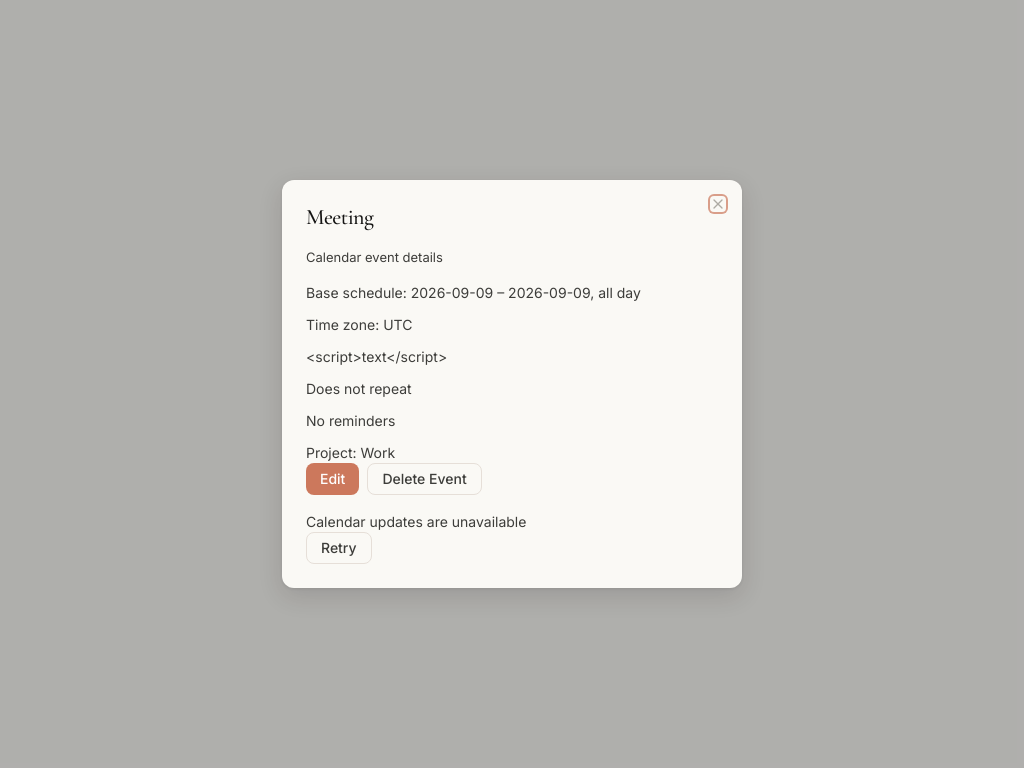
Test case: retries failed subscriptions during editing and releases all cleanup handles
Click the button "Edit": (333, 479) [306,463,359,495]
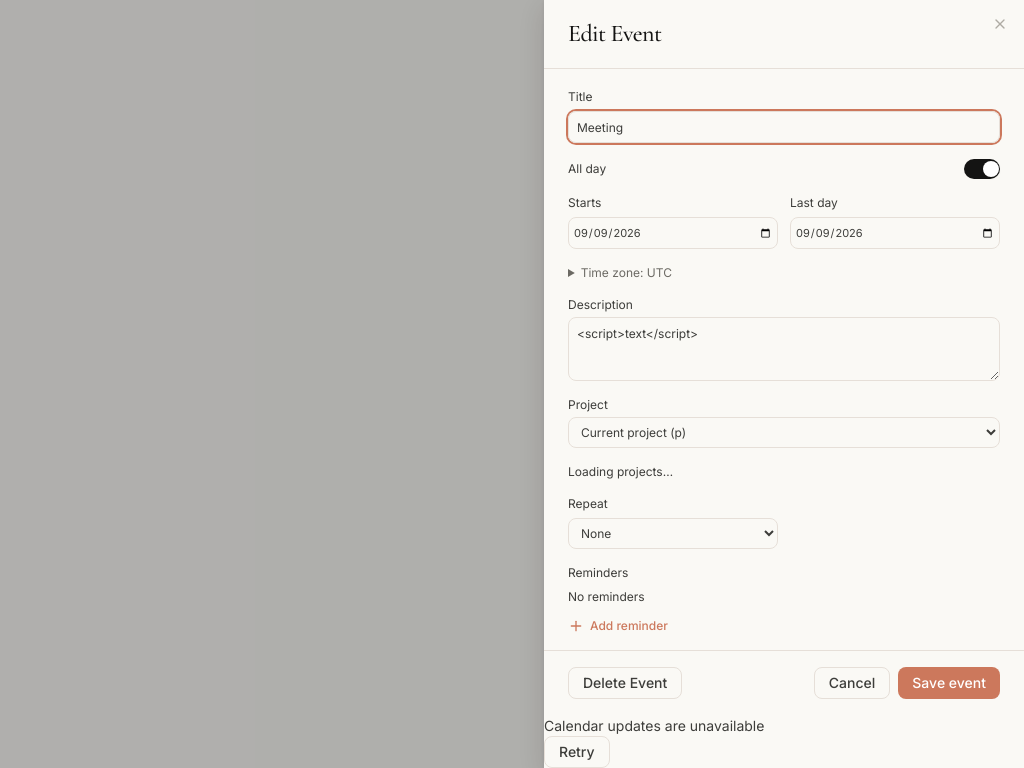
Replace the text in the field labelled "Title" with "Keep draft": (784, 127) [568,111,1000,143]
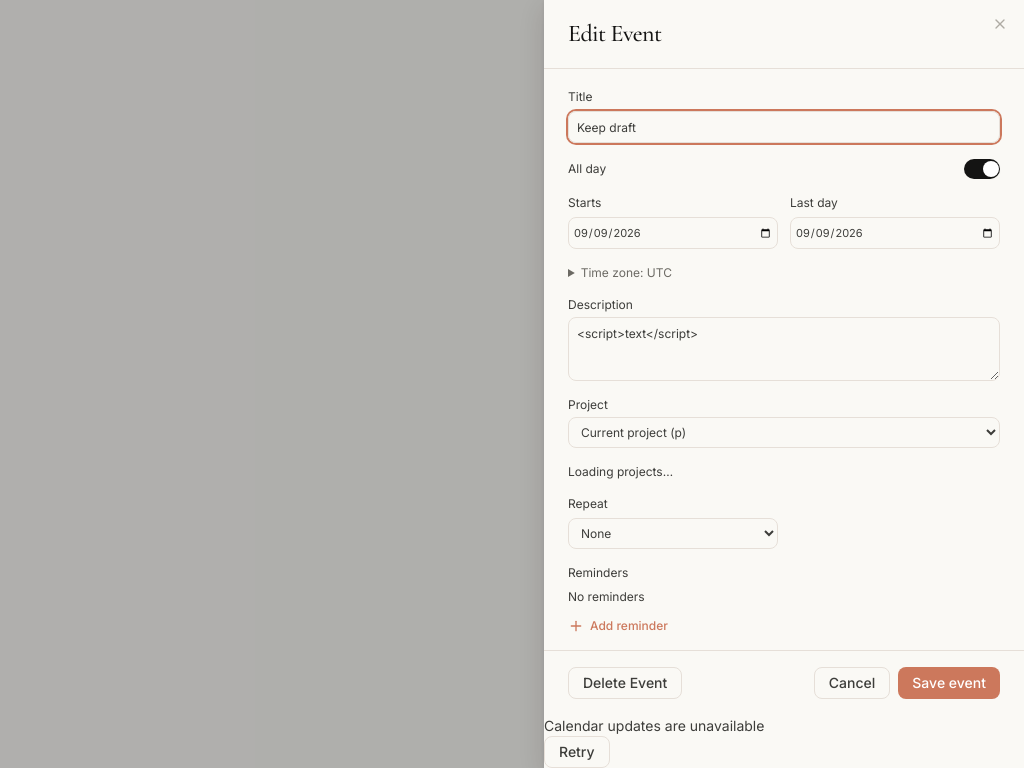
Click the button "Retry": (577, 752) [544,736,610,767]
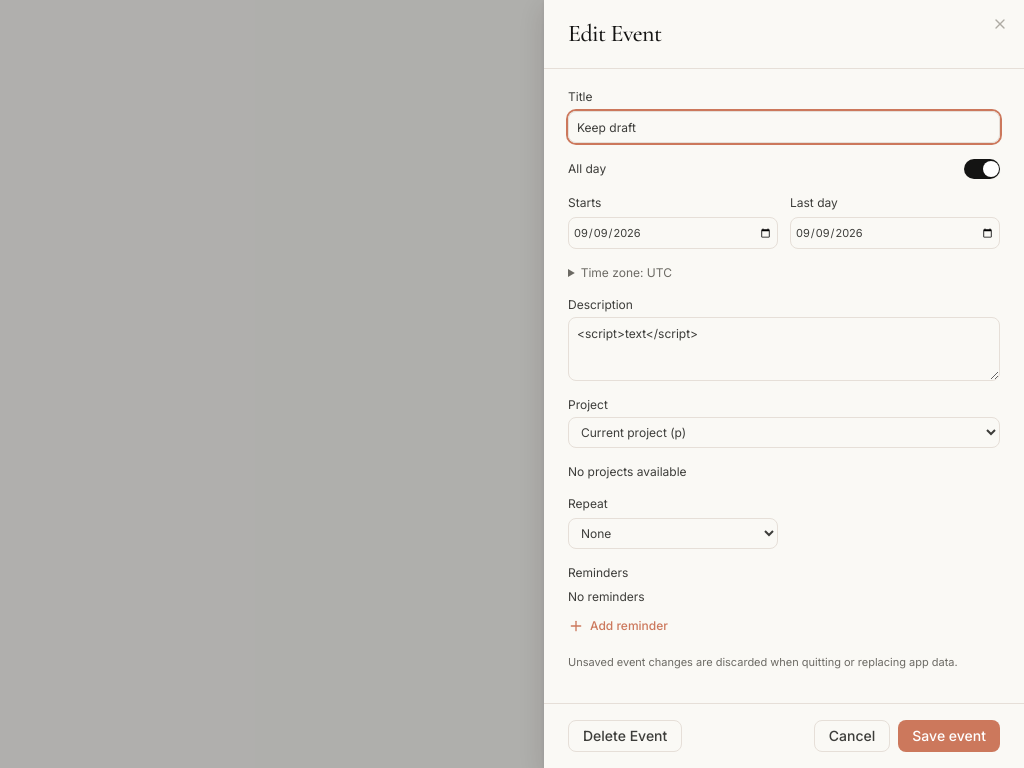
Check: the text "Calendar updates are unavailable" is gone
